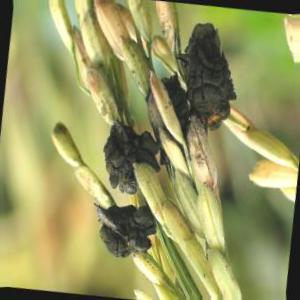Leaf_Scald: (192, 23, 235, 134), (100, 206, 156, 263), (104, 124, 150, 192)
